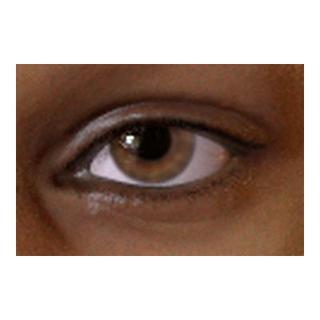pupil: (131, 120, 171, 160)
